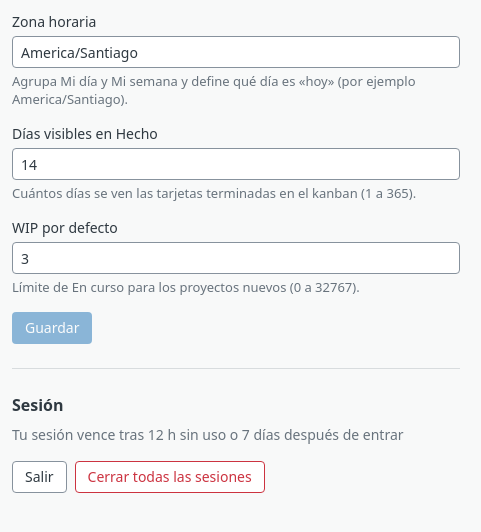
Test case: Ajustes (4.8) › valida rangos: WIP por defecto = 32768 no se envía
This screenshot has width=481, height=532.
Replace the text in the field labelled "WIP por defecto" with "32768". click: (236, 258)
box: x1=12 y1=242 x2=460 y2=274
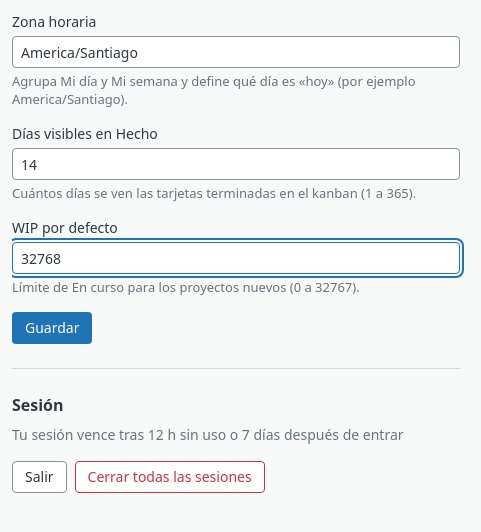
Click the button "Guardar". click: (52, 328)
box: x1=12 y1=312 x2=92 y2=344
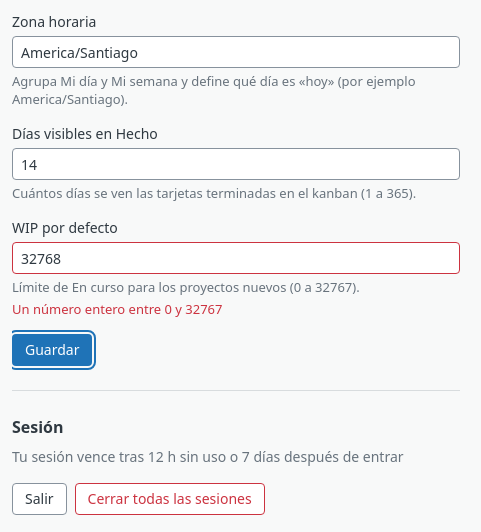
Now the message shows "entre 0 y 32767", box x1=12 y1=300 x2=222 y2=318
